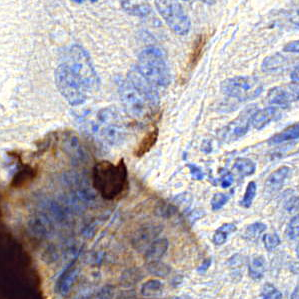Lymphocyte: (90, 159, 130, 199)
